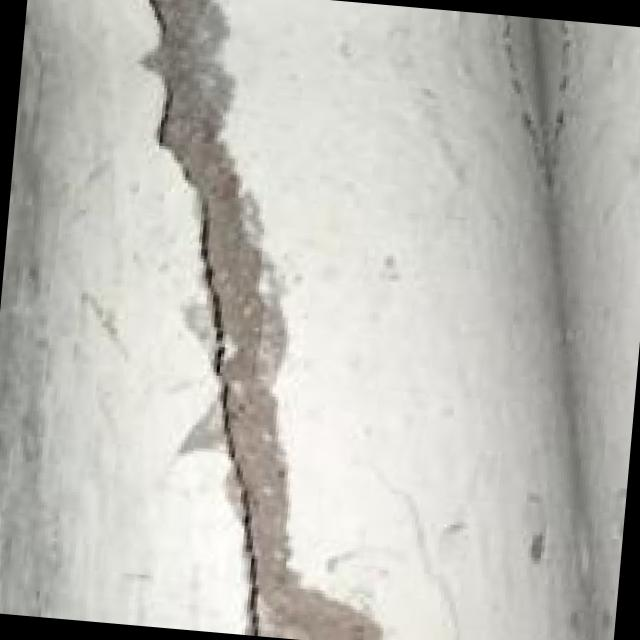crack: (50, 0, 402, 640)
